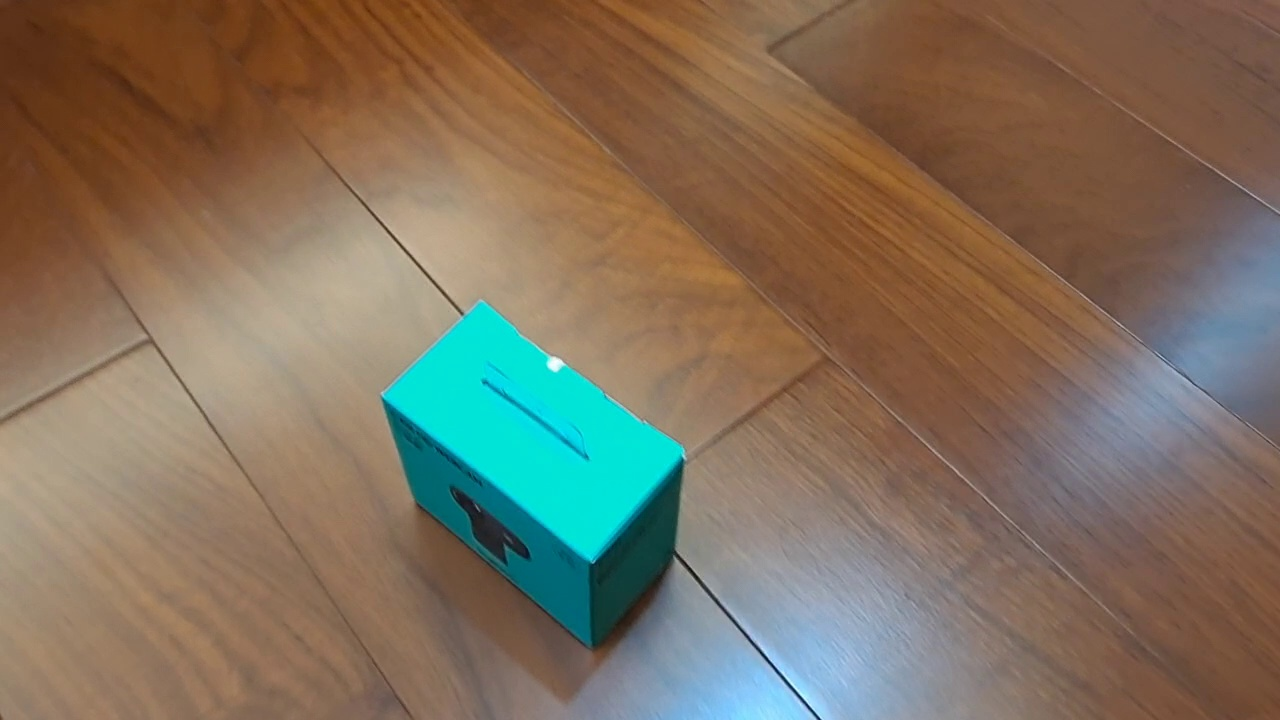webcam: (379, 296, 687, 653)
